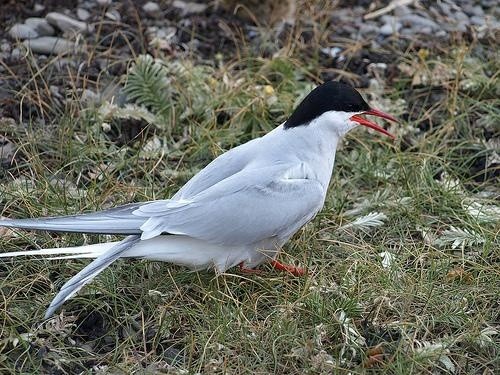bird: (2, 80, 404, 321)
